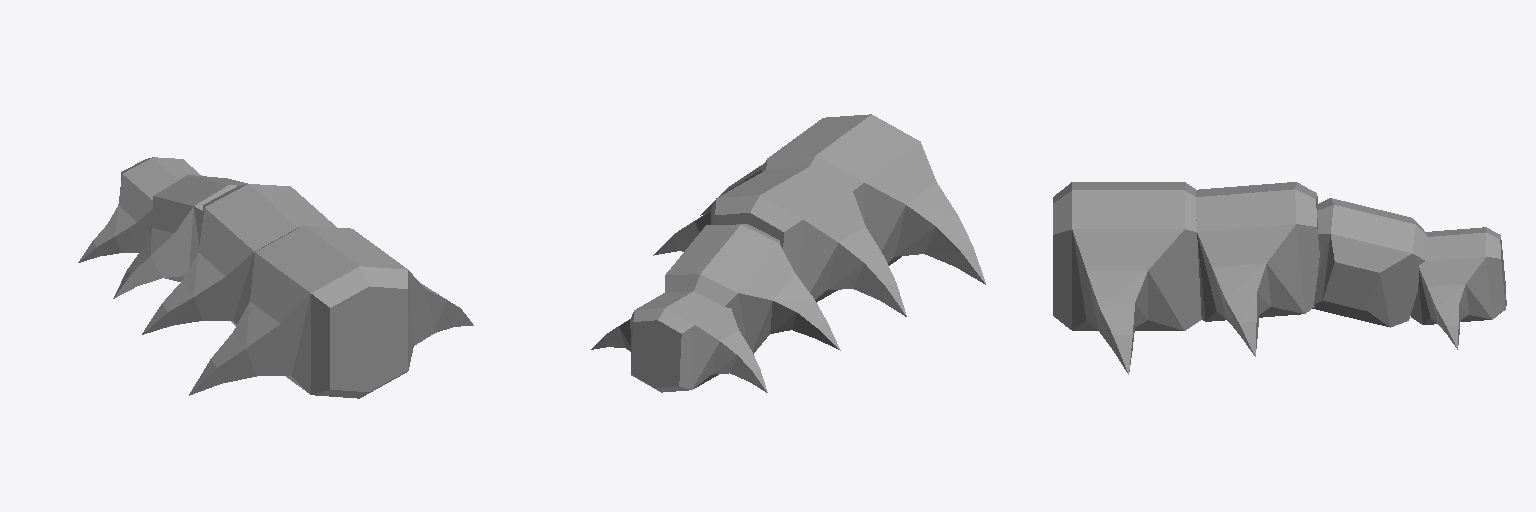
The model's file is xaphanspine.obj.
3 renders of one model, left to right at view 1: azimuth 30°, elevation 25°; view 2: azimuth 150°, elevation 25°; view 3: azimuth 270°, elevation 25°, orthographic.
Parts seen in each view (by area): view 1: BaseFront03, BaseFront02, Base, BaseBack01; view 2: BaseFront03, BaseFront02, Base, BaseBack01; view 3: BaseFront03, BaseFront02, Base, BaseBack01.
Boxes of the visible parts, x1=… form: BaseFront03: x1=189, y1=225, x2=473, y2=398; BaseFront02: x1=142, y1=184, x2=335, y2=334; Base: x1=113, y1=175, x2=247, y2=298; BaseBack01: x1=78, y1=157, x2=201, y2=262; BaseFront03: x1=700, y1=114, x2=985, y2=284; BaseFront02: x1=653, y1=167, x2=906, y2=316; Base: x1=665, y1=224, x2=840, y2=353; BaseBack01: x1=591, y1=291, x2=767, y2=392; BaseFront03: x1=1053, y1=182, x2=1201, y2=374; BaseFront02: x1=1196, y1=182, x2=1319, y2=356; Base: x1=1312, y1=198, x2=1427, y2=327; BaseBack01: x1=1411, y1=227, x2=1506, y2=349.
Bounding box in the file's own units: 0.4912 × 0.2185 × 0.6733.